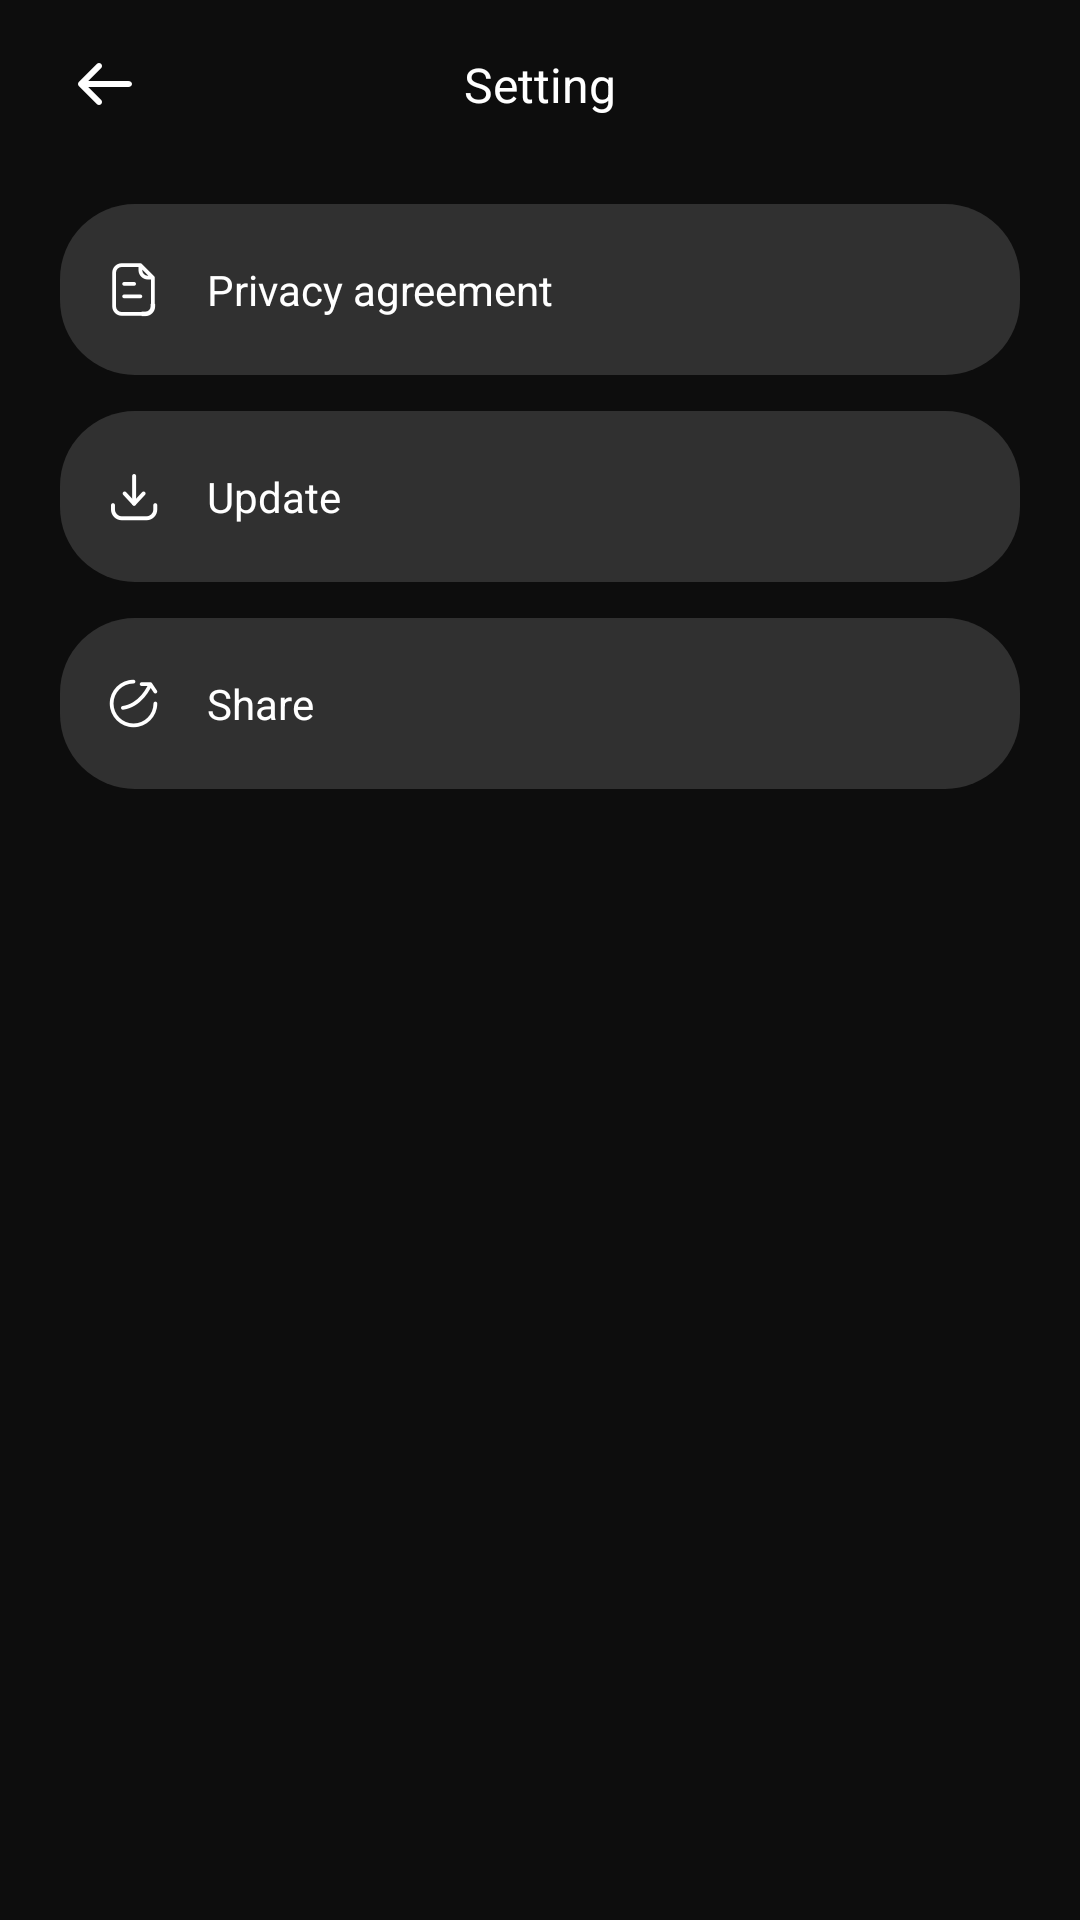

Locate icon controls on the screen. Image size 1080×1920, boxes as (x1, y1, x2, y2).
back: (78, 63, 132, 105)
